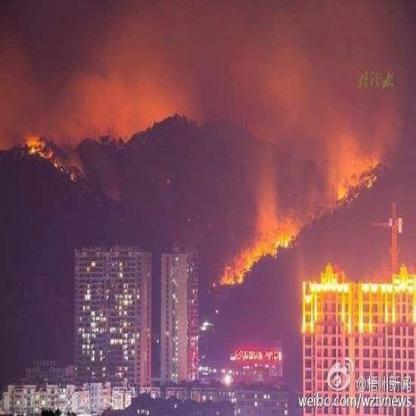fire: (295, 248, 413, 331), (208, 207, 295, 281), (23, 124, 81, 186), (326, 143, 380, 208)
other: (226, 336, 284, 364), (222, 372, 239, 387)
smoke: (15, 9, 396, 137)
